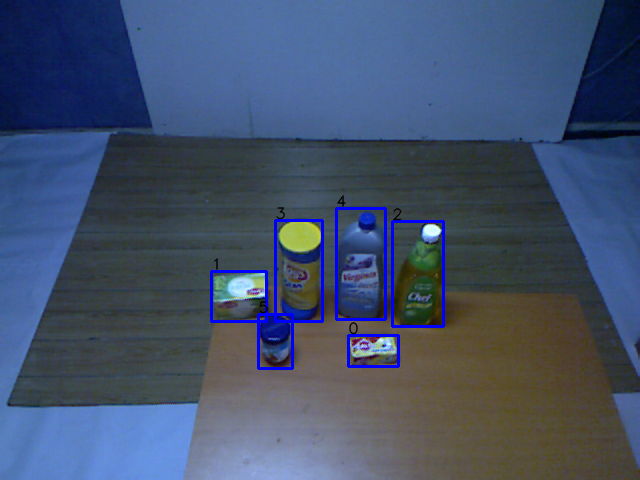aceite: (392, 216, 450, 331)
cera: (332, 208, 388, 326)
crema: (255, 312, 297, 370)
mantequilla: (344, 333, 403, 366)
papas: (273, 214, 327, 330)
te: (208, 268, 271, 324)
